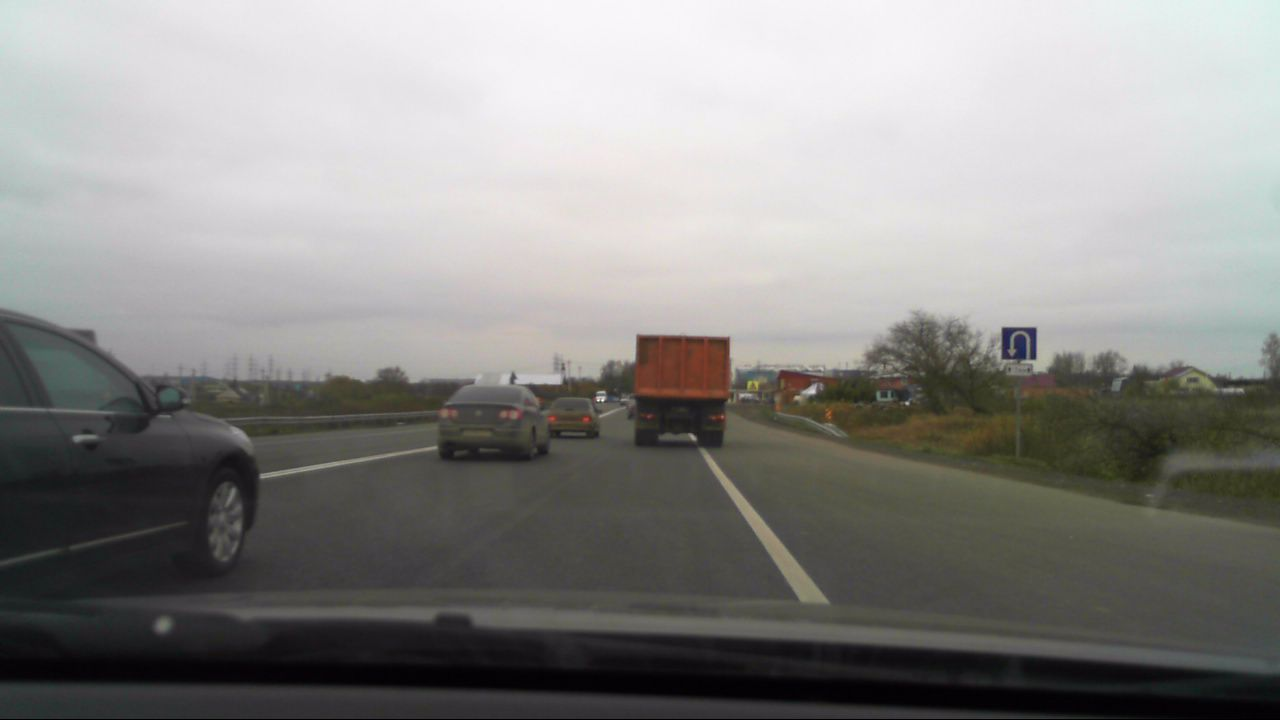U-turn: (1002, 327, 1035, 360)
